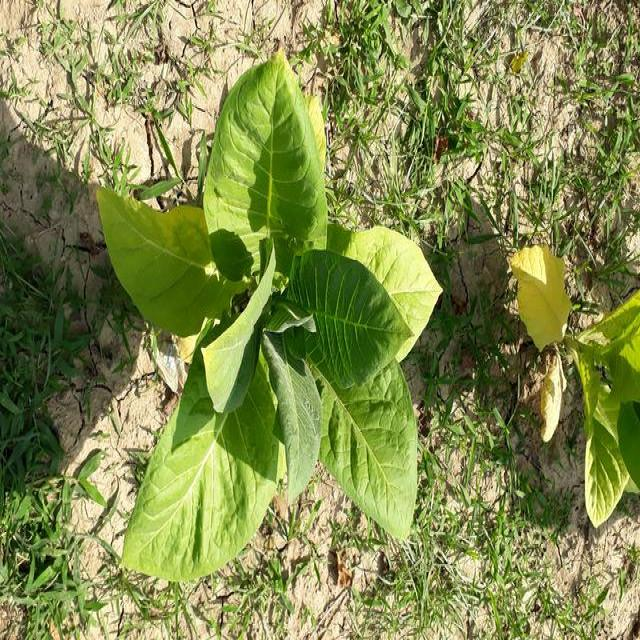crop: (100, 49, 438, 578), (504, 244, 640, 525)
